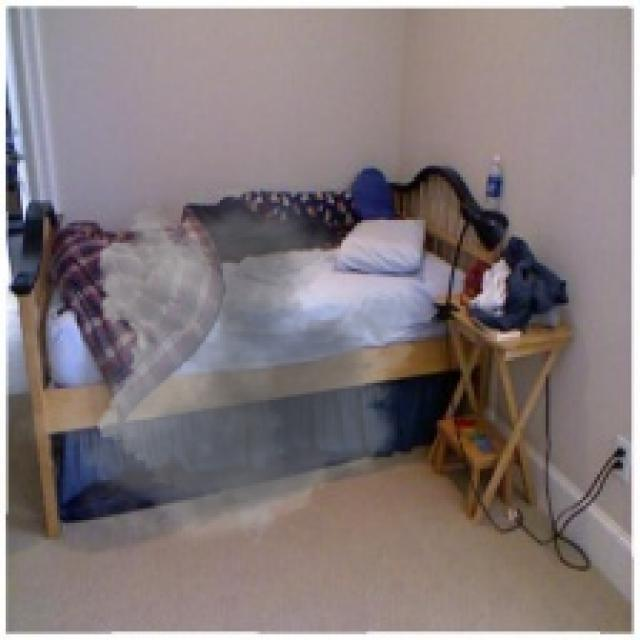Smoke: (12, 185, 437, 558)
